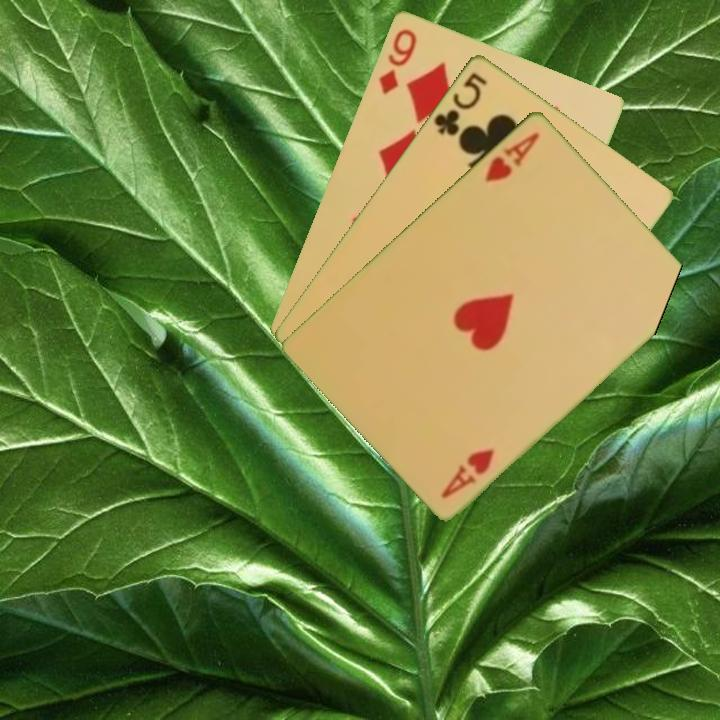5c: (430, 68, 490, 139)
9d: (374, 24, 420, 97)
Ah: (480, 128, 543, 185), (437, 444, 498, 501)
